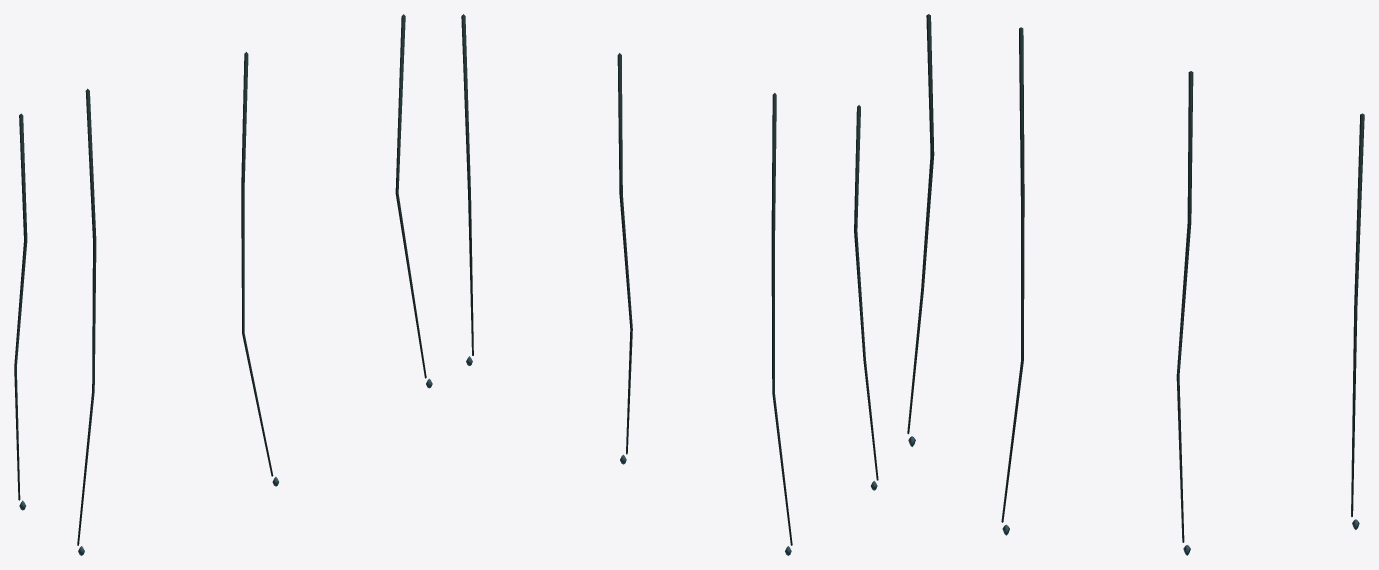
Rendered from vines_lod2.glb.
3 renders of one model, left to right at view 1: azimuth 30°, elevation 25°; view 2: azimuth 150°, elevation 25°; view 3: azimuth 330°, elevation 25°, orthographic. The views are drawn at different scales.
Visible parts, largest first — view 1: vines_lod2; view 2: vines_lod2; view 3: vines_lod2.
Boxes of the visible parts, box(x1,y1,x2,y2) form: vines_lod2: box(14, 14, 432, 555); vines_lod2: box(461, 14, 878, 555); vines_lod2: box(907, 14, 1364, 555).
Size of the model in its own units: 3.55 by 3.81 by 0.3185.
